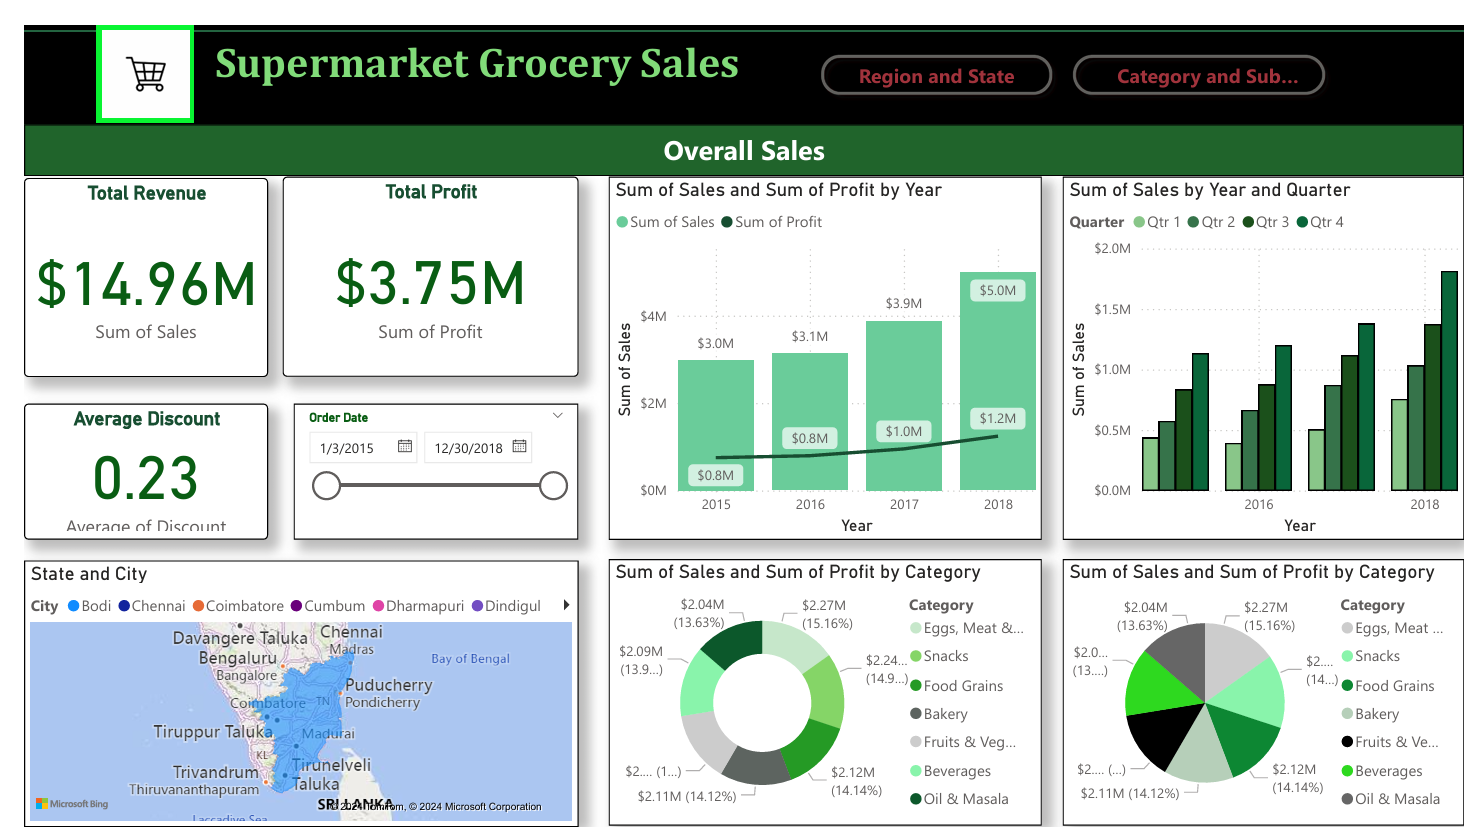

This screenshot's page, from the dashboard's own definition file:
{"tool":"powerbi","page":{"name":"Overal Sales","canvas":[1280,720],"ordinal":0},"visuals":[{"type":"textbox","box":[0,6.7,1280.3,88.9],"z":0},{"type":"card","title":"Total Revenue","fields":{"Values":["Supermart Grocery Sales - Retai.Sales"]},"box":[0,142.9,217,176.5],"z":1000},{"type":"card","title":"Average Discount","fields":{"Values":["Supermart Grocery Sales - Retai.Discount"]},"box":[0,343.7,217,121.3],"z":2000},{"type":"card","title":"Total Profit","fields":{"Values":["Supermart Grocery Sales - Retai.Profit"]},"box":[230.4,141.5,262.8,177.9],"z":3000},{"type":"slicer","fields":{"Values":["Supermart Grocery Sales - Retai.Order Date"]},"box":[239.9,343.7,253.4,121.3],"z":4000},{"type":"lineClusteredColumnComboChart","fields":{"Y":["Supermart Grocery Sales - Retai.Sales"],"Category":["Supermart Grocery Sales - Retai.Year"],"Y2":["Supermart Grocery Sales - Retai.Profit"]},"box":[520.2,141.5,385.4,323.4],"z":5000},{"type":"clusteredColumnChart","fields":{"Category":["Supermart Grocery Sales - Retai.Year"],"Series":["Supermart Grocery Sales - Retai.Quarter"],"Y":["Supermart Grocery Sales - Retai.Sales"]},"box":[923.1,141.5,357.1,323.4],"z":6000},{"type":"donutChart","fields":{"Y":["Supermart Grocery Sales - Retai.Sales"],"Category":["Supermart Grocery Sales - Retai.Category"]},"box":[520,482,385,237],"z":7000},{"type":"pieChart","fields":{"Y":["Supermart Grocery Sales - Retai.Sales"],"Category":["Supermart Grocery Sales - Retai.Category"]},"box":[923,482,357,237],"z":8000},{"type":"filledMap","fields":{"Series":["Supermart Grocery Sales - Retai.City"],"Category":["Supermart Grocery Sales - Retai.State"]},"box":[0,482.5,493.2,237.2],"z":9000},{"type":"actionButton","box":[699.4,24.3,223.7,53.9],"z":10000},{"type":"actionButton","box":[923.1,24.3,242.6,53.9],"z":11000},{"type":"textbox","box":[0,95.7,1280.3,45.8],"z":12000},{"type":"image","box":[64.8,7.3,86.8,86.8],"z":12001}]}

Visuals, with their boxes in screenshot pixels (x1, y1, x2, y2), scaled from the page's 1280x720 canvas onto the 1484x839 screenshot:
textbox: <box>0,8,1483,111</box>
"Total Revenue" card: <box>0,167,252,372</box>
"Average Discount" card: <box>0,401,252,542</box>
"Total Profit" card: <box>267,165,572,372</box>
slicer - Supermart Grocery Sales - Retai.Order Date: <box>278,401,572,542</box>
lineClusteredColumnComboChart - Supermart Grocery Sales - Retai.Sales x Supermart Grocery Sales - Retai.Year: <box>603,165,1050,542</box>
clusteredColumnChart - Supermart Grocery Sales - Retai.Year x Supermart Grocery Sales - Retai.Quarter: <box>1070,165,1483,542</box>
donutChart - Supermart Grocery Sales - Retai.Sales x Supermart Grocery Sales - Retai.Category: <box>603,562,1049,838</box>
pieChart - Supermart Grocery Sales - Retai.Sales x Supermart Grocery Sales - Retai.Category: <box>1070,562,1483,838</box>
filledMap - Supermart Grocery Sales - Retai.City x Supermart Grocery Sales - Retai.State: <box>0,562,572,838</box>
actionButton: <box>811,28,1070,91</box>
actionButton: <box>1070,28,1351,91</box>
textbox: <box>0,112,1483,165</box>
image: <box>75,9,176,110</box>
